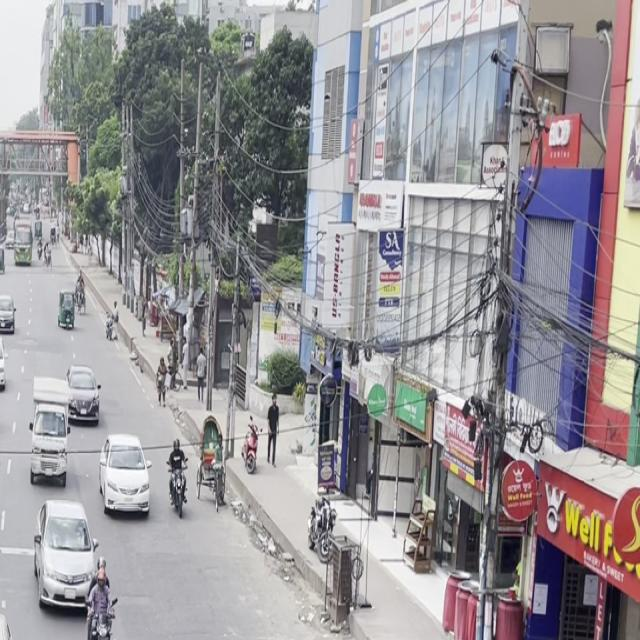car: (30, 490, 102, 622), (96, 428, 155, 528), (26, 378, 74, 492), (63, 353, 103, 431), (0, 593, 30, 640), (0, 290, 18, 338)
motorbike: (80, 559, 126, 640), (165, 433, 193, 520)
